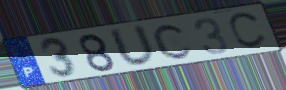3: (40, 35, 78, 81), (194, 17, 230, 55)
8: (78, 32, 116, 73)
C: (151, 22, 195, 61), (227, 10, 269, 50)
U: (106, 23, 159, 69)
